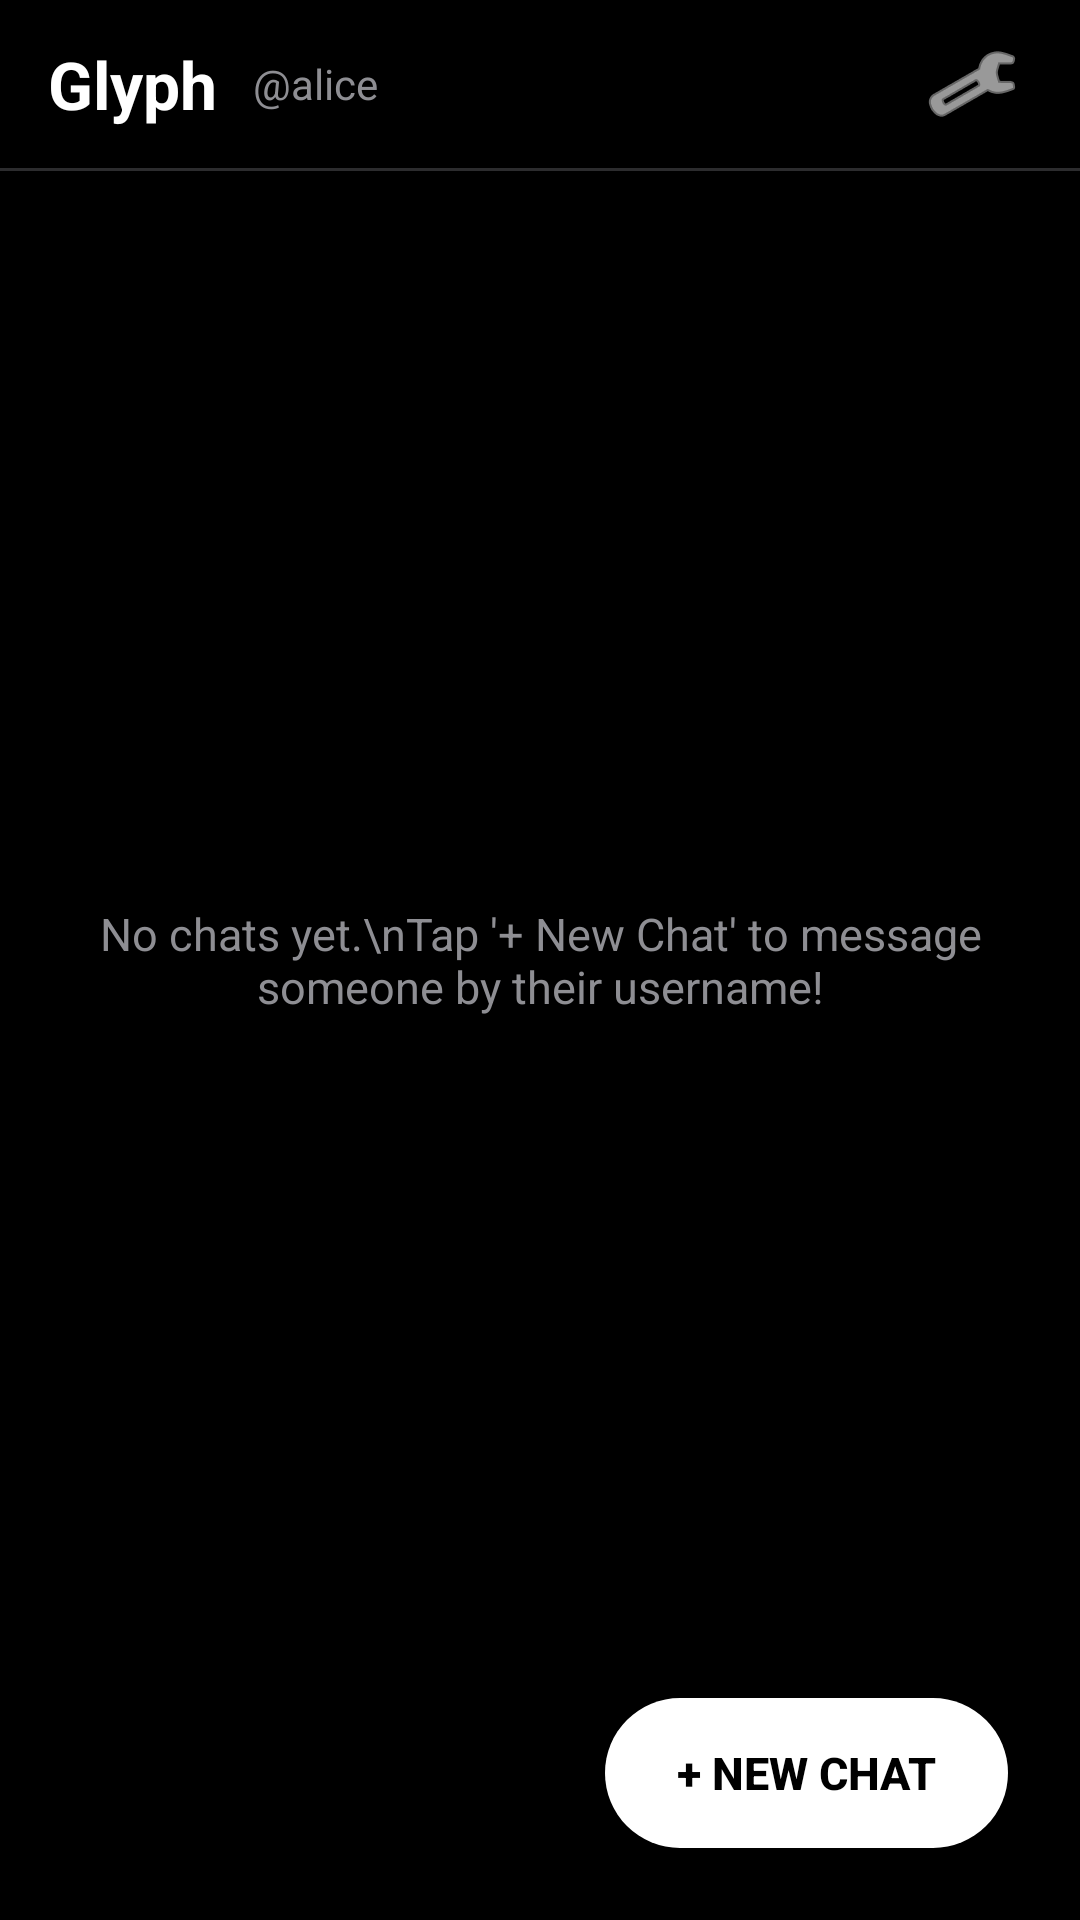

Icons on this 1080px x 1920px Android screen, each with its box as (x1, y1, x2, y2):
Settings: (929, 51, 1015, 117)
